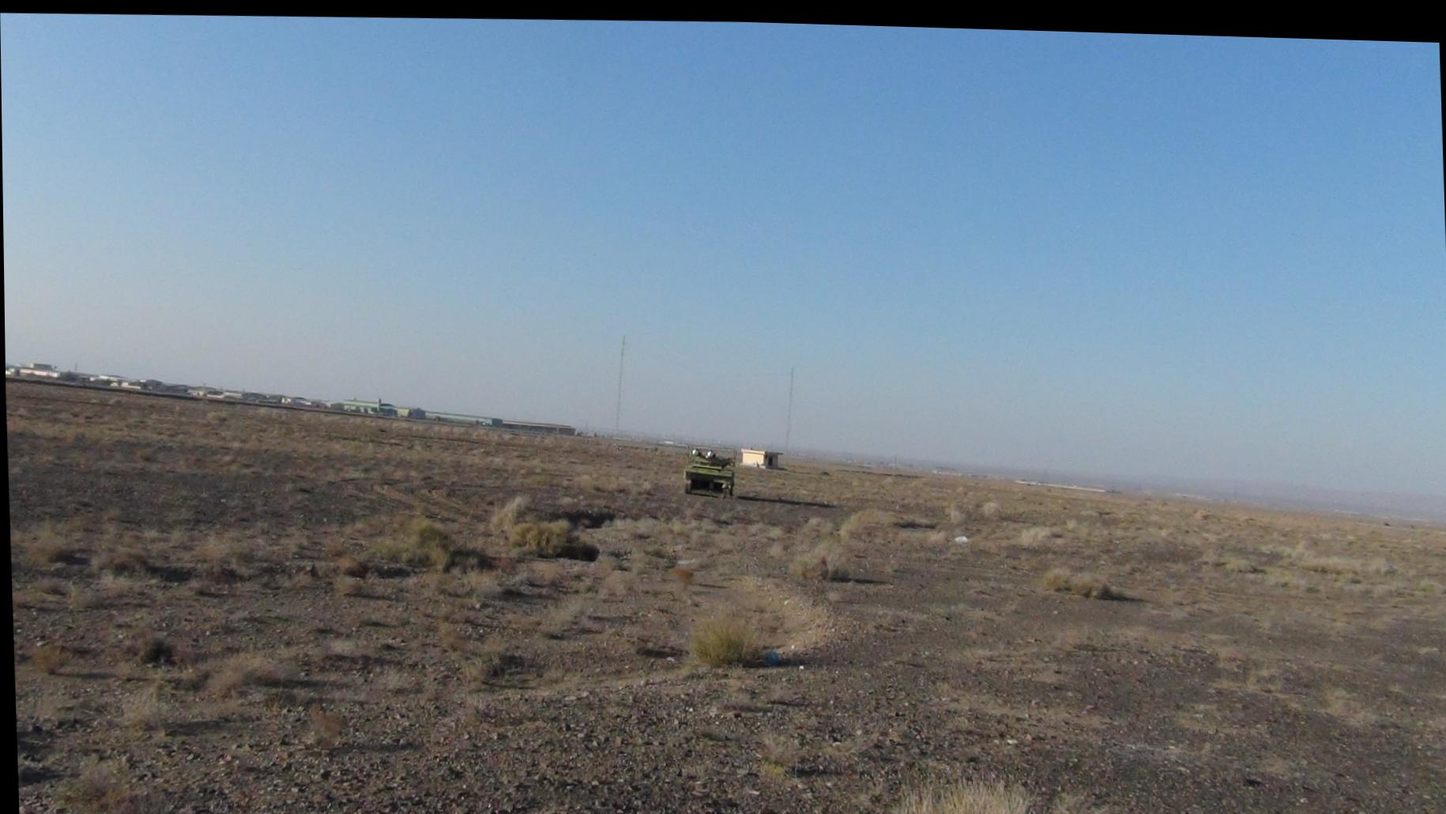armored_car: (681, 442, 740, 503)
